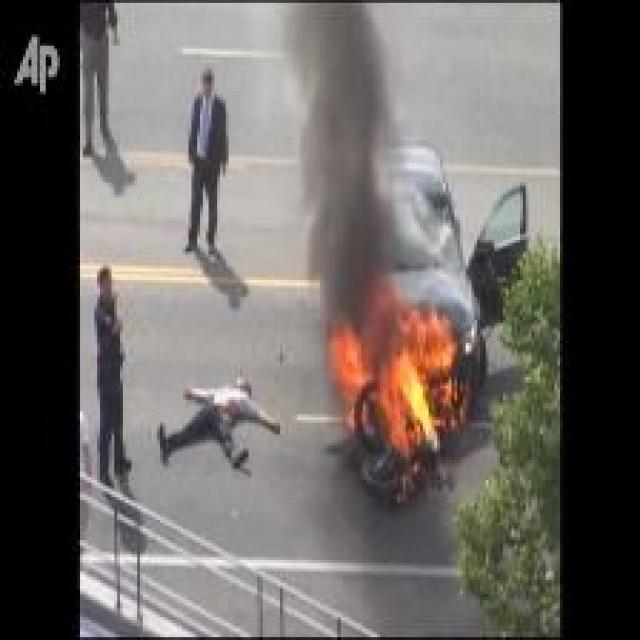Fire: (322, 267, 458, 456)
